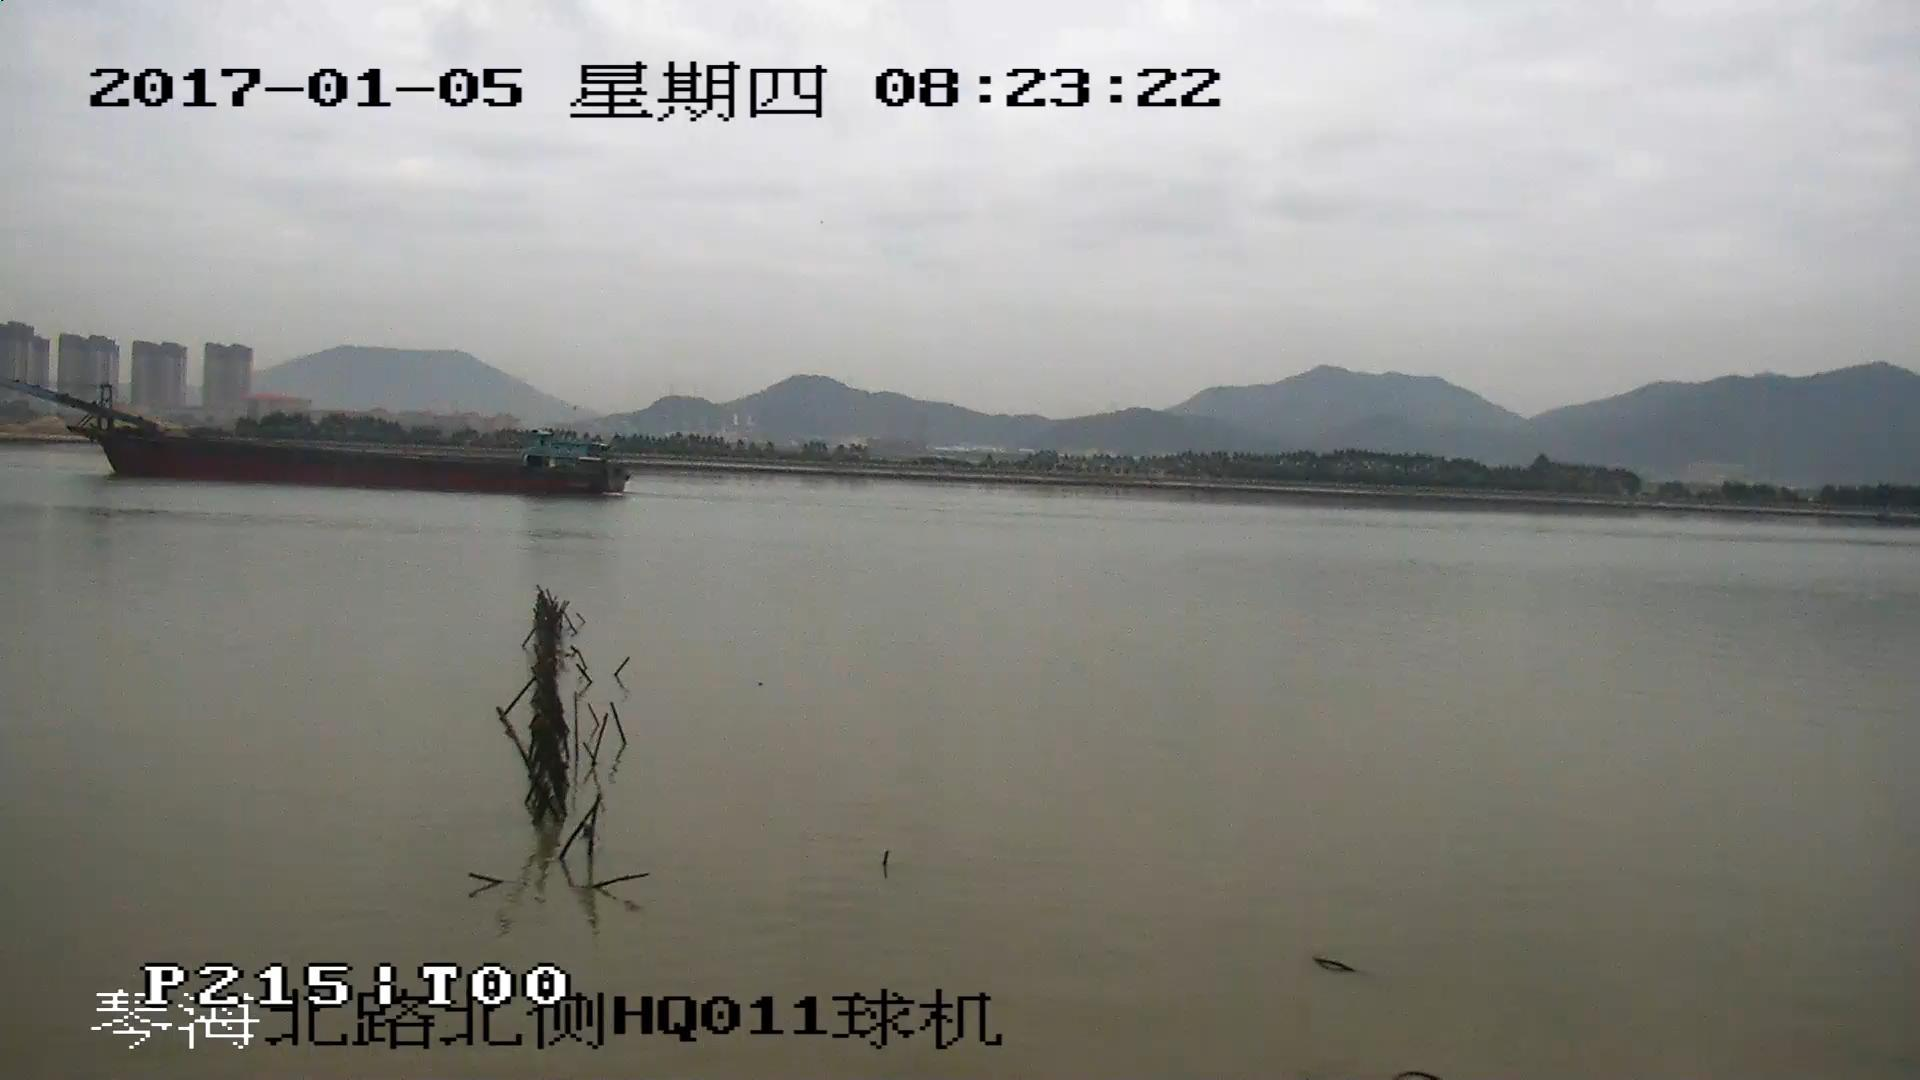Ship: (3, 378, 633, 500)
